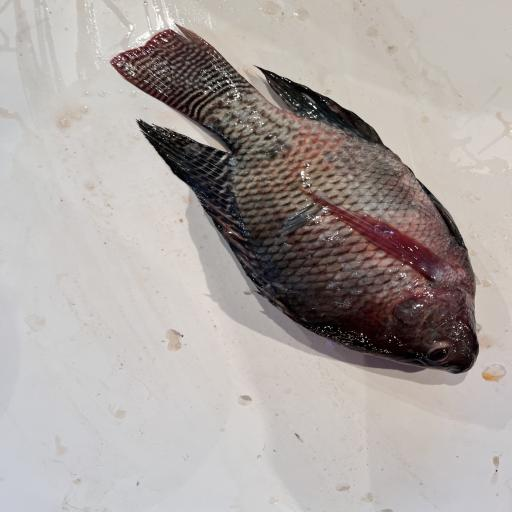Tilapia: (109, 23, 479, 374)
